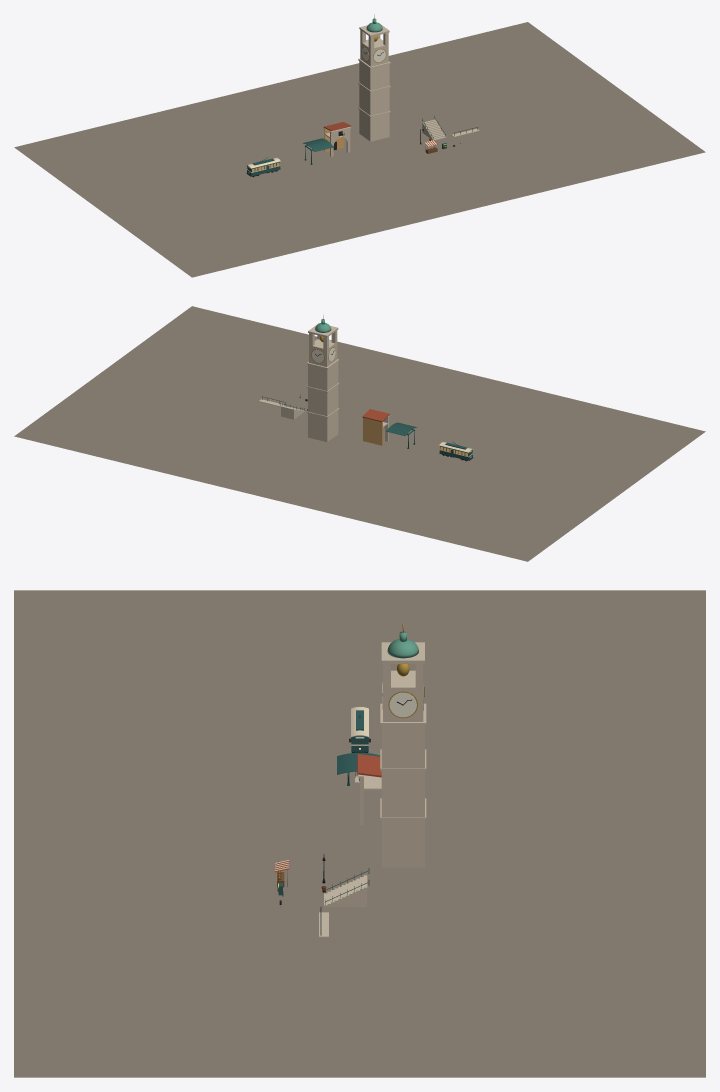
The model's file is punch_quay_kit.glb.
3 renders of one model, top to bottom at view 1: azimuth 30°, elevation 25°; view 2: azimuth 150°, elevation 25°; view 3: azimuth 270°, elevation 25°, orthographic. The views are drawn at different scales.
Parts seen in each view (by area): view 1: REVIEW_ground, tower_shaft; view 2: REVIEW_ground, tower_shaft, arcade_back_wall; view 3: REVIEW_ground, tower_shaft, tower_clock_stage.
Part boxes in pixels (<box>): REVIEW_ground: <box>14,22,705,277</box>; tower_shaft: <box>359,61,389,141</box>; REVIEW_ground: <box>14,306,705,561</box>; tower_shaft: <box>308,362,338,441</box>; arcade_back_wall: <box>363,417,382,445</box>; REVIEW_ground: <box>14,590,705,1077</box>; tower_shaft: <box>381,725,424,867</box>; tower_clock_stage: <box>383,689,423,721</box>.
Bounding box in the file's own units: 160 × 39.3 × 96.
